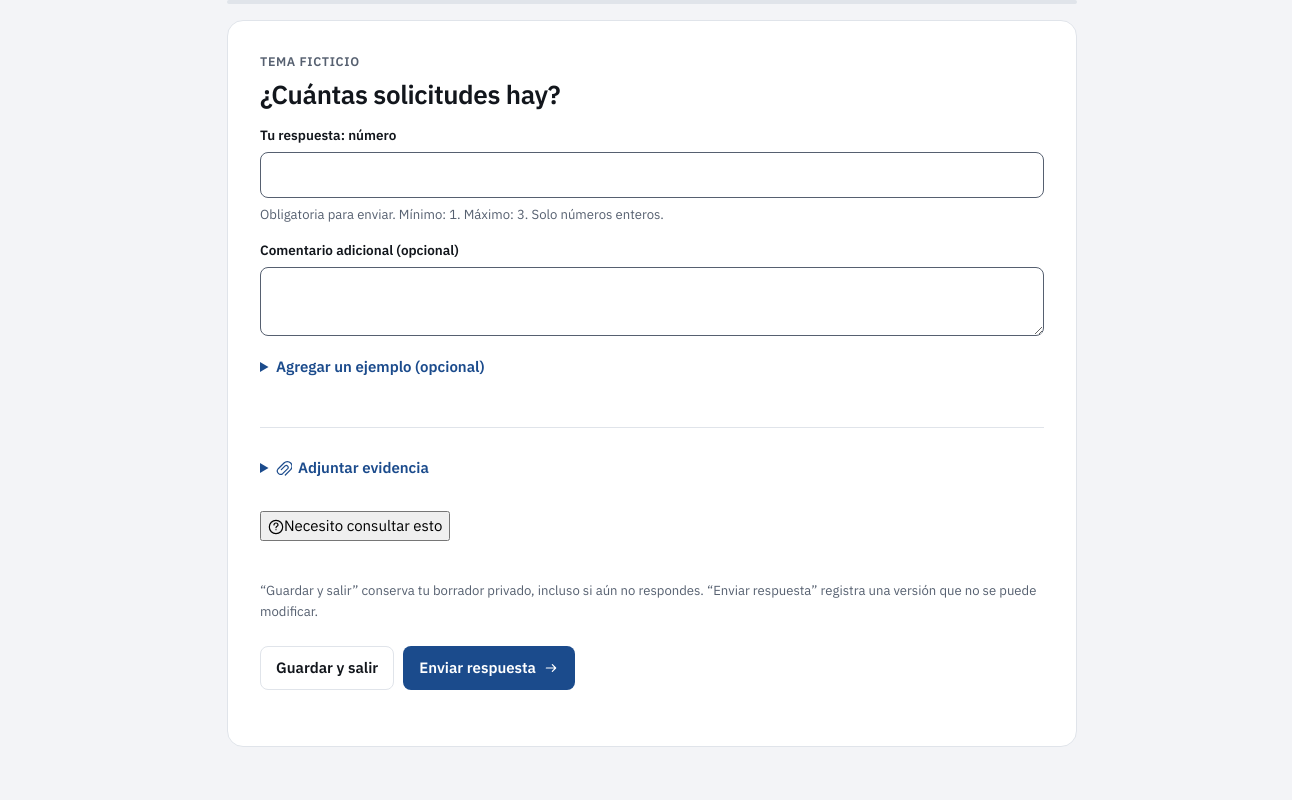
Scenario: no recupera el aviso al recargar aunque el historial conserve el identificador
Type "2" into the field labelled "Tu respuesta: número". click: (652, 175)
box: [260, 152, 1044, 198]
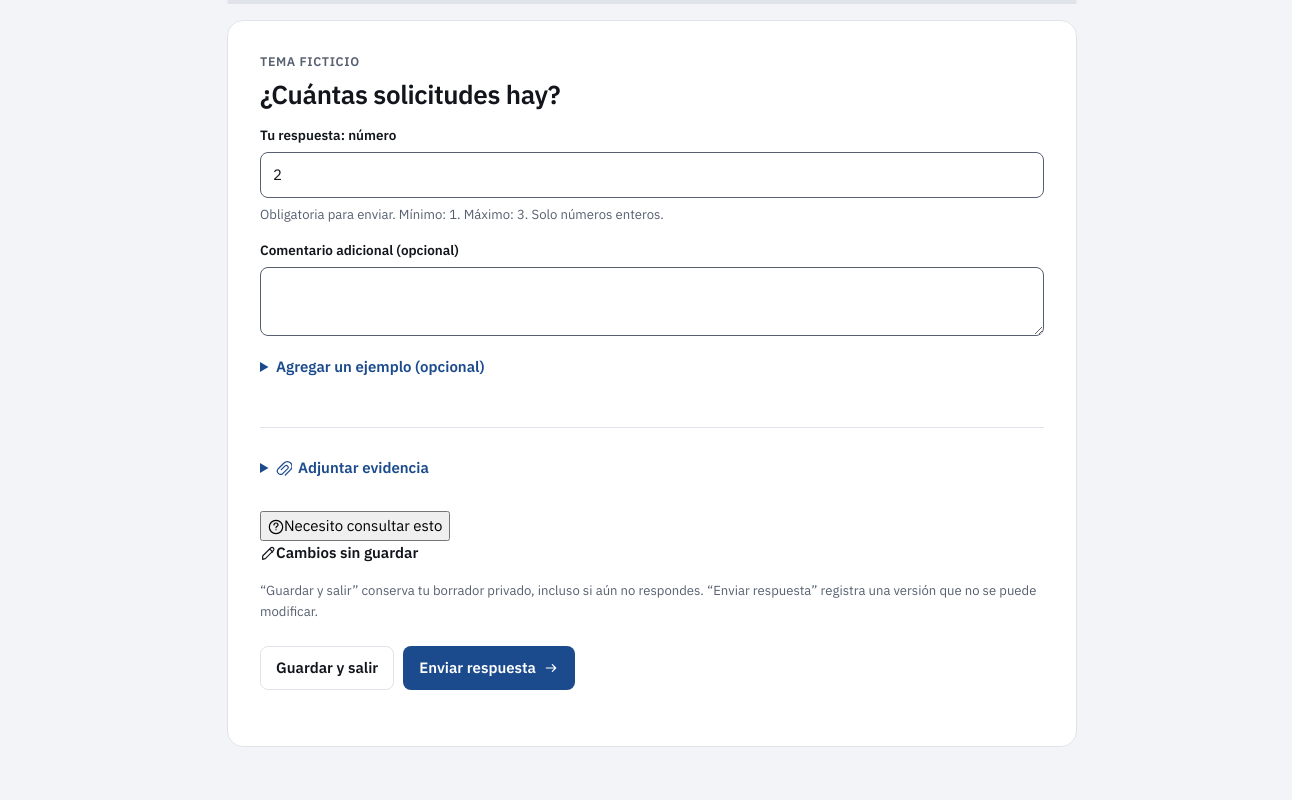
Type "Nota ficticia que no debe viajar en el historial" into the text box labelled "Comentario adicional (opcional)". click: (652, 302)
box: [260, 267, 1044, 336]
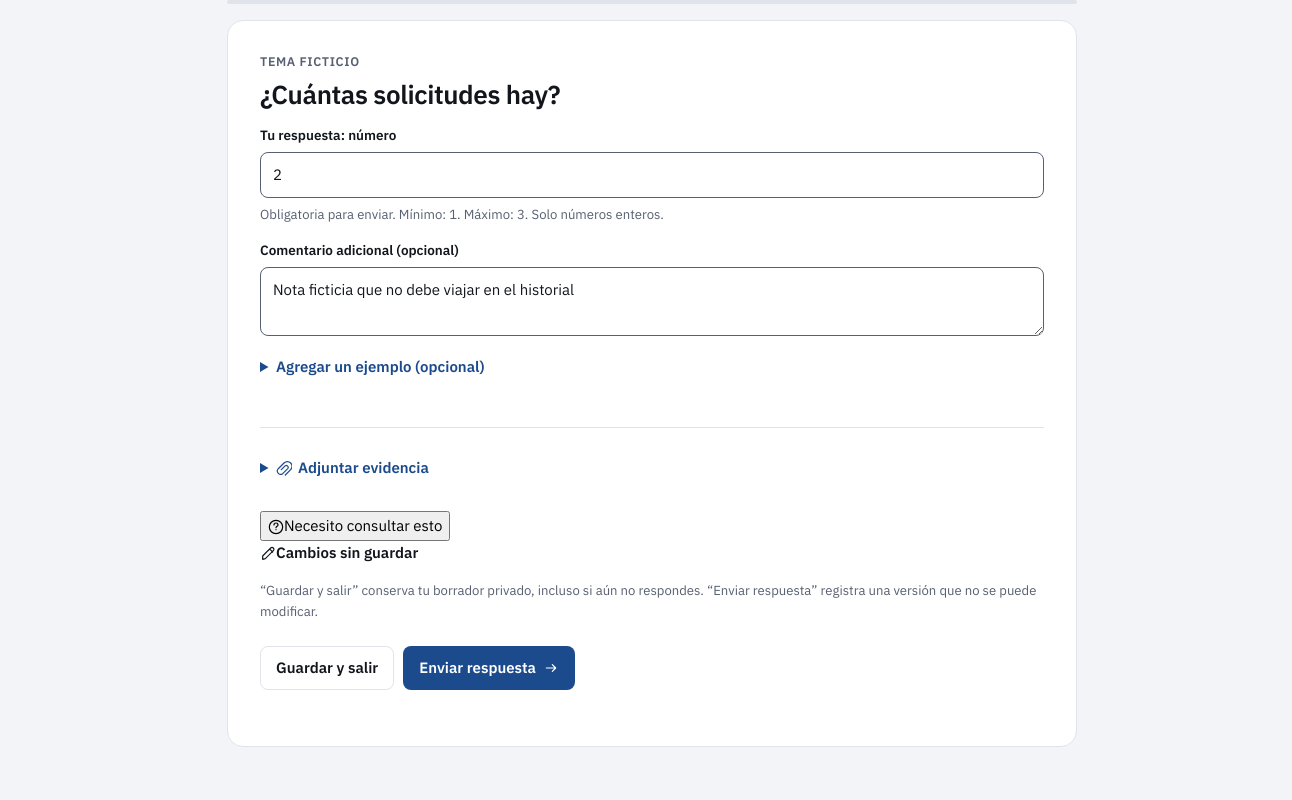
Click the button "Necesito consultar esto". click: (355, 526)
box: [260, 511, 450, 541]
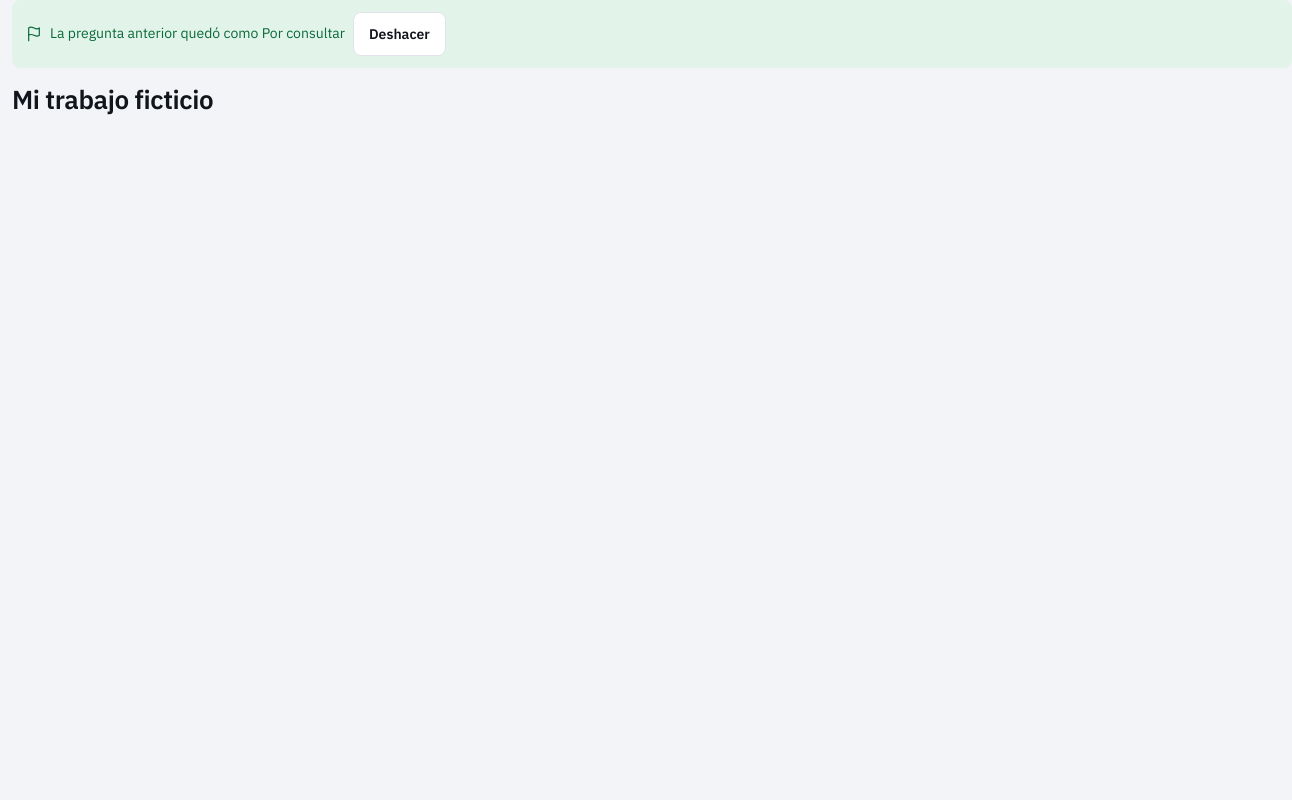
Now the heading "Mi trabajo ficticio" is shown, box [12, 82, 213, 116]
Now the button "Deshacer" is shown, box [353, 12, 446, 56]
